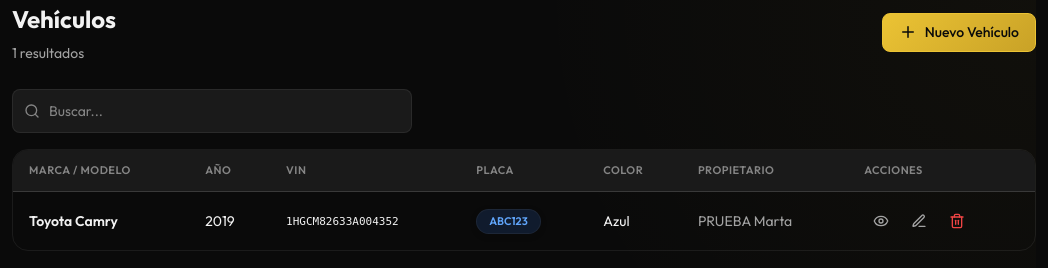
Historial del vehículo › un historial que no carga se dice, no se pinta como vehículo sin datos
This screenshot has width=1048, height=268.
Expected: the text "Toyota Camry" is shown, [13,192,189,250]
Click the button named "Ver" at (881, 221), box [864,204,898,238]
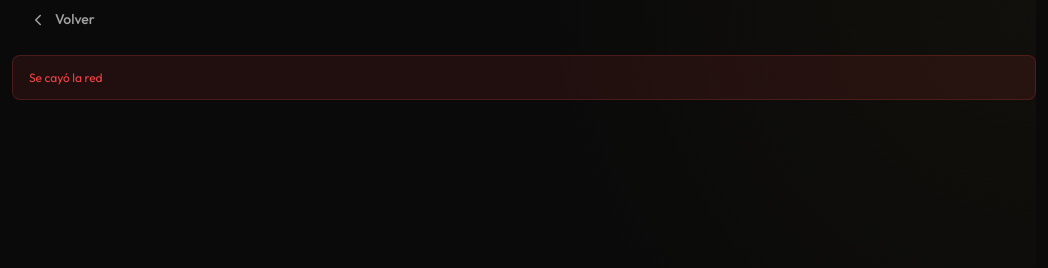
Result: the text "Se cayó la red" is shown at [12,55,1036,100]
